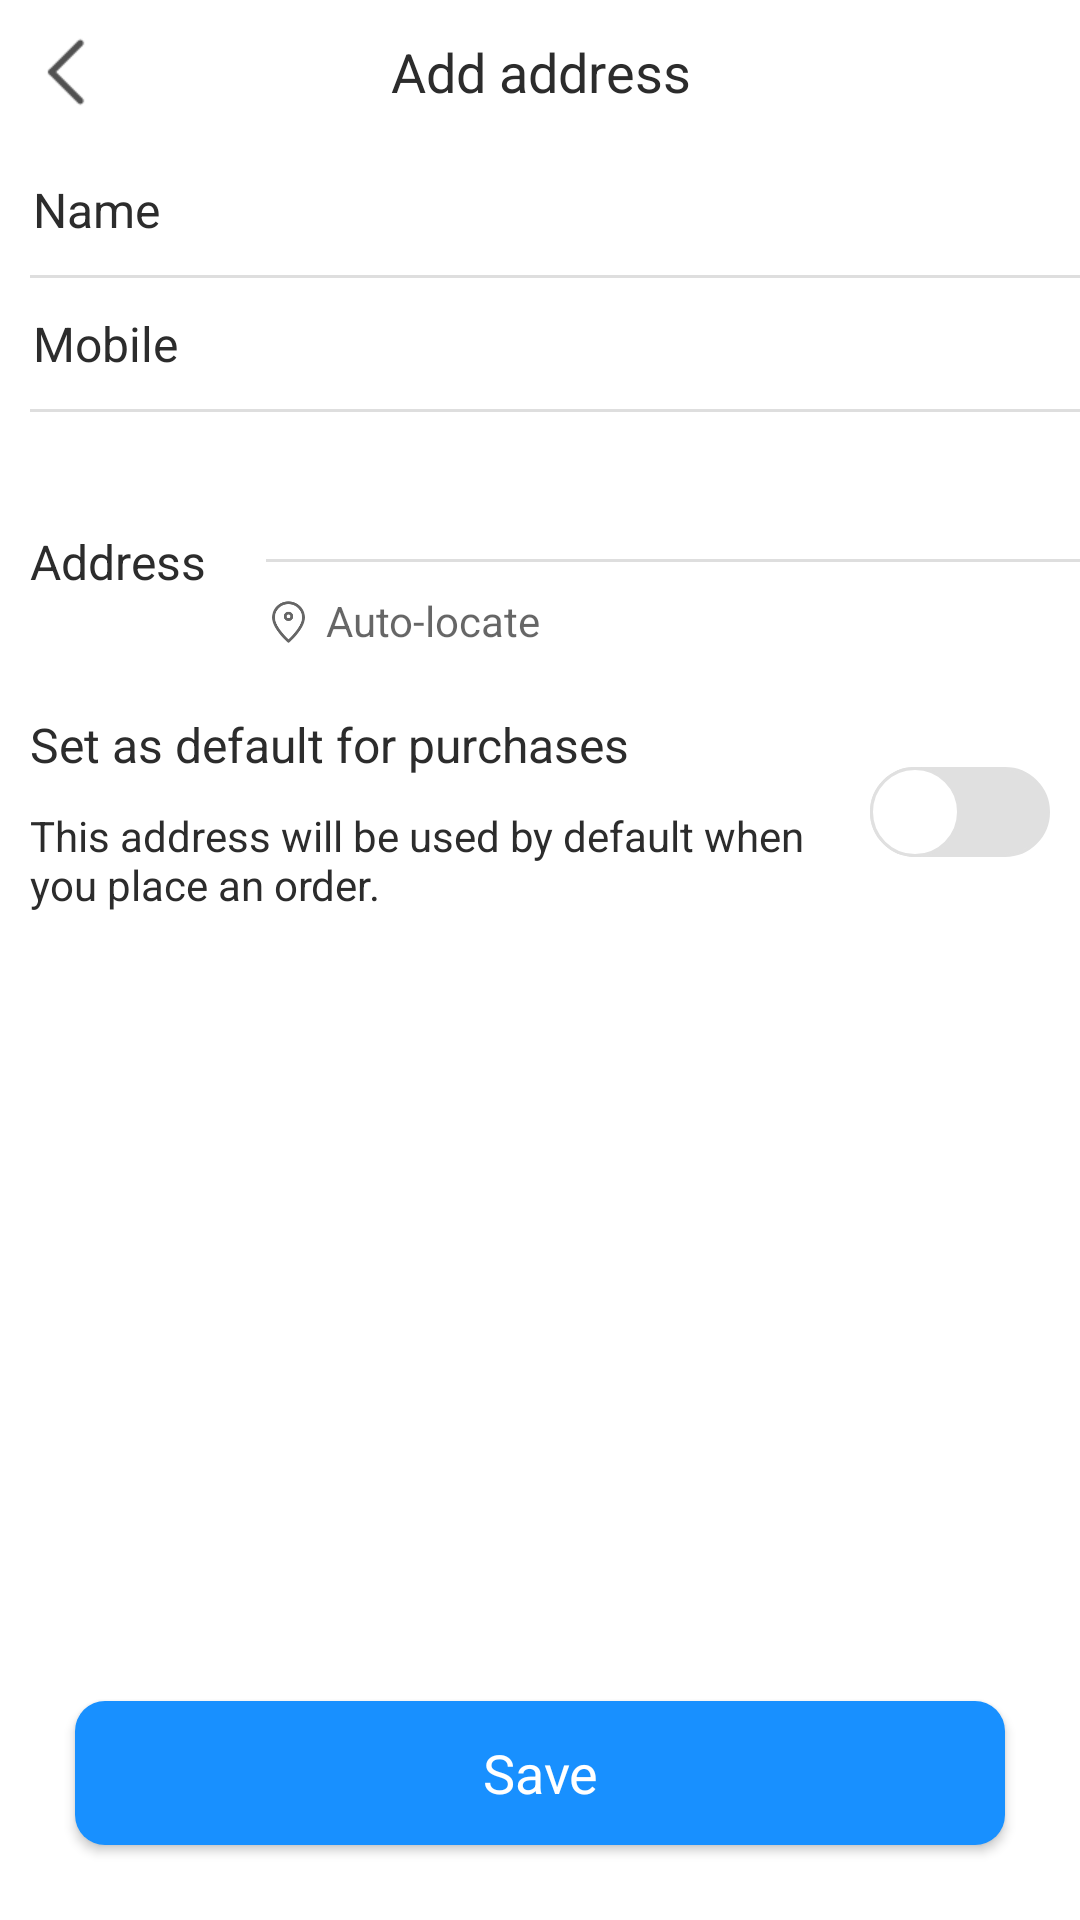

Point at icon controls on the screen. Image size 1080 × 1920, points as point (x, y).
back: point (65, 72)
location: point (288, 622)
